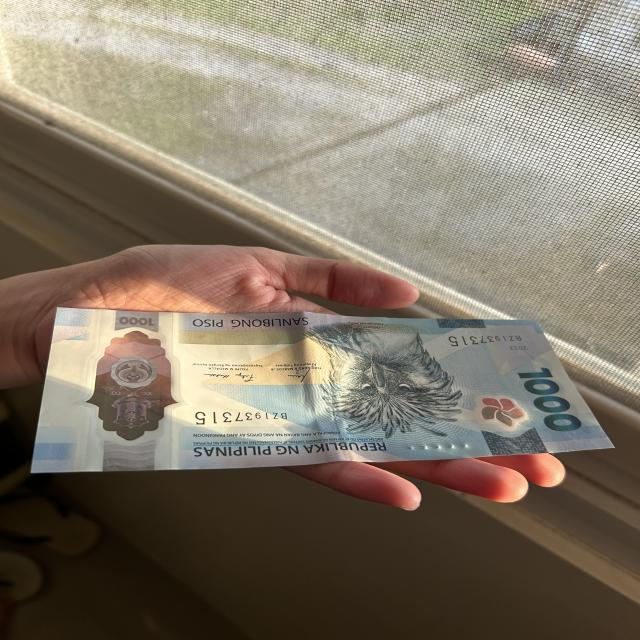clear_window: (90, 328, 169, 449)
eagle: (312, 322, 451, 434)
sampaguita: (478, 392, 524, 432)
